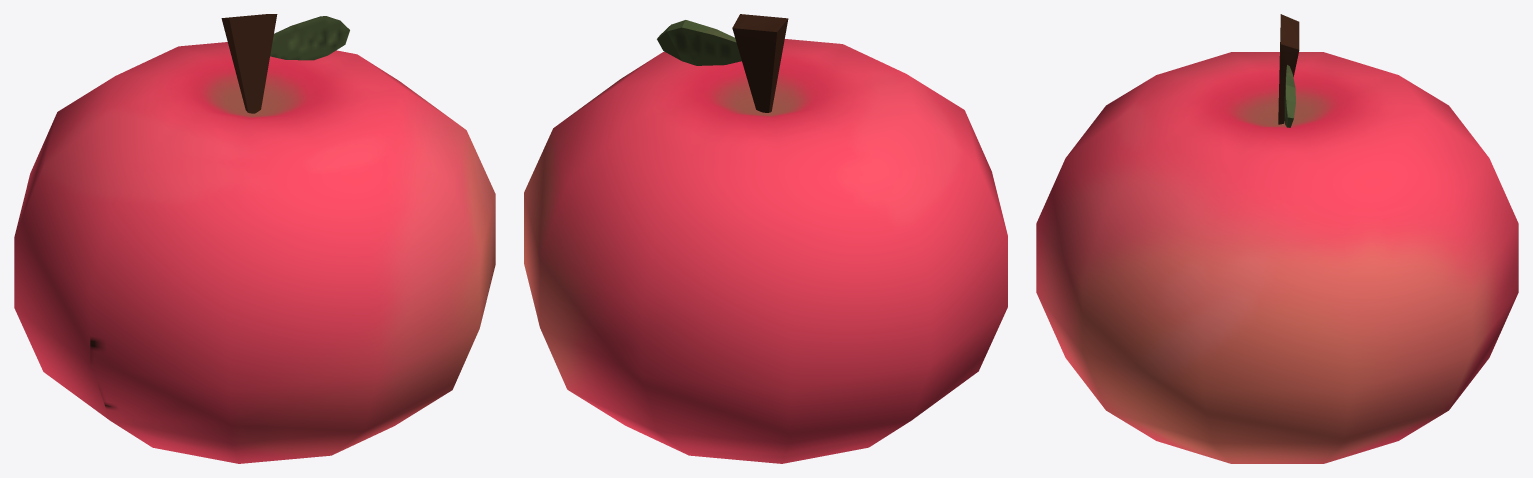
The model's file is ubercharge.fbx.
3 renders of one model, left to right at view 1: azimuth 30°, elevation 25°; view 2: azimuth 150°, elevation 25°; view 3: azimuth 270°, elevation 25°, orthographic. The views are drawn at different scales.
Parts seen in each view (by area): view 1: Sphere; view 2: Sphere; view 3: Sphere.
Boxes of the visible parts, x1=… form: Sphere: x1=14, y1=14, x2=495, y2=463; Sphere: x1=524, y1=14, x2=1007, y2=463; Sphere: x1=1036, y1=14, x2=1518, y2=463.
Size of the model in its own units: 50.58 by 47.49 by 53.18.
